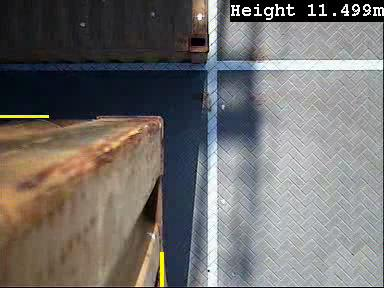groundmarker_2: (174, 225, 251, 269), (207, 172, 243, 226), (209, 1, 245, 53)
